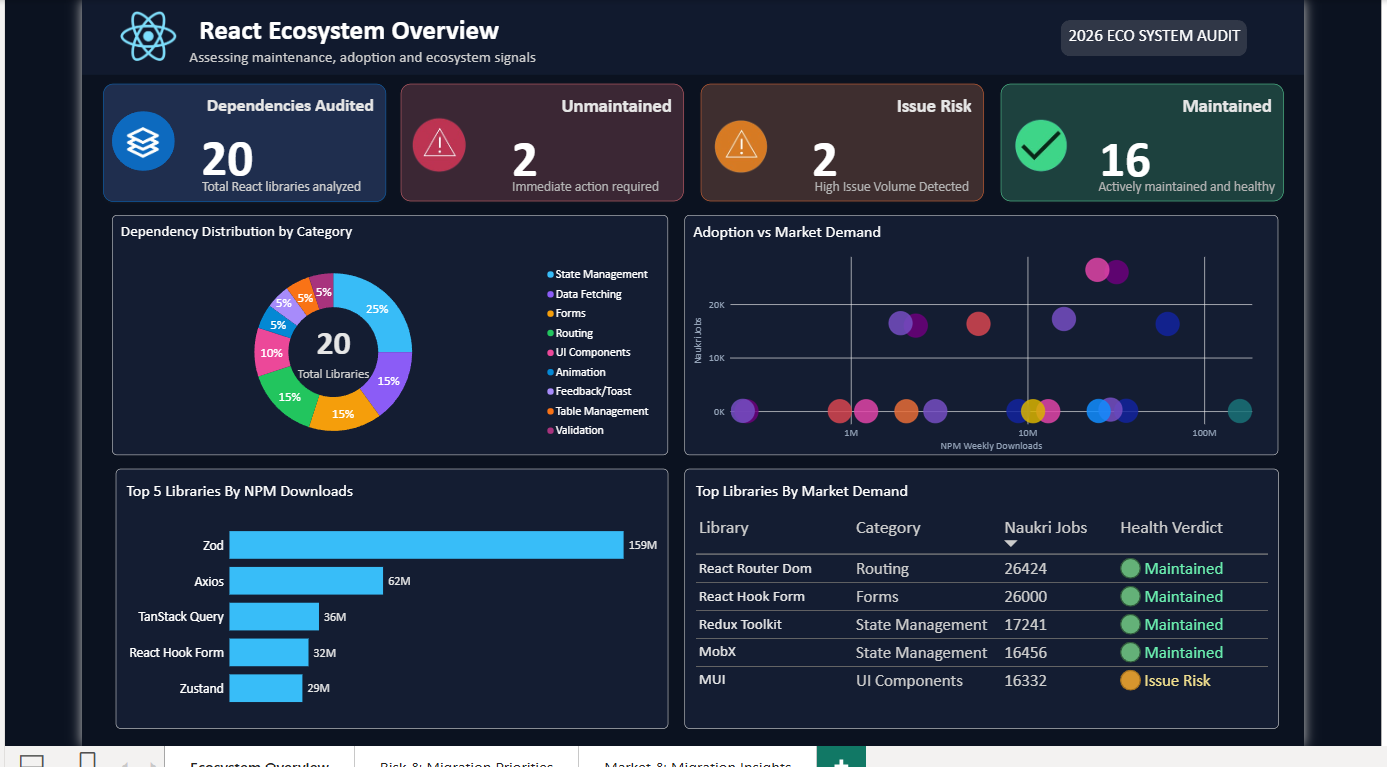

This screenshot's page, from the dashboard's own definition file:
{"tool":"powerbi","page":{"name":"Ecosystem Overview","canvas":[1920,1173],"ordinal":0},"visuals":[{"type":"textbox","box":[0,0,2560.7,110.4],"z":0},{"type":"image","box":[47.1,16.3,114,81.4],"z":1000},{"type":"shape","box":[1539,31.4,292.9,57],"z":2000},{"type":"textbox","box":[1538.6,39.8,292.9,41.3],"z":3000},{"type":"cardVisual","title":"Dependencies Audited","fields":{"Data":["public ecosystem_health.Dependencies Audited"]},"box":[32.9,131.7,444.6,185.2],"z":4000},{"type":"textbox","box":[188.2,280.5,271.4,36.2],"z":5000},{"type":"shape","box":[47.1,175.5,98.7,93.6],"z":6000},{"type":"image","box":[68.8,190,55.1,66.7],"z":7000},{"type":"cardVisual","title":"Unmaintained","fields":{"Data":["public ecosystem_health.Dependencies Audited"]},"box":[501.3,132.1,445.2,184.6],"z":8000},{"type":"textbox","box":[676.8,280.5,238.9,36.2],"z":9000},{"type":"image","box":[501.3,181,120,92.7],"z":10000},{"type":"cardVisual","title":"Issue Risk","fields":{"Data":["public ecosystem_health.Dependencies Audited"]},"box":[973.6,132.1,445.2,184.6],"z":11000},{"type":"textbox","box":[1150.9,280.5,249.7,36.2],"z":12000},{"type":"image","box":[991.7,181,86.9,99.5],"z":13000},{"type":"cardVisual","title":"Maintained","fields":{"Data":["public ecosystem_health.Dependencies Audited"]},"box":[1444.1,132.1,445.2,184.6],"z":14000},{"type":"textbox","box":[1597.9,280.5,284.1,36.2],"z":15000},{"type":"image","box":[1463.8,180.9,89.4,95.7],"z":16000},{"type":"donutChart","title":"Dependency Distribution by Category","fields":{"Category":["public ecosystem_health.category"],"Y":["CountNonNull(public ecosystem_health.library_name)"]},"box":[47.2,338.1,874.6,377.4],"z":17000},{"type":"scatterChart","title":"Adoption vs Market Demand","fields":{"X":["public ecosystem_health.npm_weekly_downloads"],"Y":["public ecosystem_health.naukri_jobs"],"Series":["public ecosystem_health.category"],"Size":["CountNonNull(public ecosystem_health.github_stars)"]},"box":[947.4,338.1,933.6,377.4],"z":18000},{"type":"clusteredBarChart","title":"Top 5 Libraries By NPM Downloads","fields":{"Category":["public ecosystem_health.library_name"],"Y":["Sum(public ecosystem_health.npm_weekly_downloads)"]},"box":[53.1,737.1,868.7,408.8],"z":19000},{"type":"pivotTable","title":"Top Libraries By Market Demand","fields":{"Rows":["public ecosystem_health.library_name"],"Values":["Min(public ecosystem_health.category)","Sum(public ecosystem_health.naukri_jobs)","Min(public ecosystem_health.health_verdict)"]},"box":[947.4,737.1,934,409],"z":20000}]}

Visuals, with their boxes on the page's 1920x1173 design canvas (x1, y1, x2, y2). These are canvas units, not pixel positions in the 1387x767 screenshot, which may show the page scaled, cropped or inside an application window:
textbox: <box>0,0,2561,110</box>
image: <box>47,16,161,98</box>
shape: <box>1539,31,1832,88</box>
textbox: <box>1539,40,1832,81</box>
"Dependencies Audited" cardVisual: <box>33,132,478,317</box>
textbox: <box>188,280,460,317</box>
shape: <box>47,176,146,269</box>
image: <box>69,190,124,257</box>
"Unmaintained" cardVisual: <box>501,132,946,317</box>
textbox: <box>677,280,916,317</box>
image: <box>501,181,621,274</box>
"Issue Risk" cardVisual: <box>974,132,1419,317</box>
textbox: <box>1151,280,1401,317</box>
image: <box>992,181,1079,280</box>
"Maintained" cardVisual: <box>1444,132,1889,317</box>
textbox: <box>1598,280,1882,317</box>
image: <box>1464,181,1553,277</box>
"Dependency Distribution by Category" donutChart: <box>47,338,922,716</box>
"Adoption vs Market Demand" scatterChart: <box>947,338,1881,716</box>
"Top 5 Libraries By NPM Downloads" clusteredBarChart: <box>53,737,922,1146</box>
"Top Libraries By Market Demand" pivotTable: <box>947,737,1881,1146</box>
